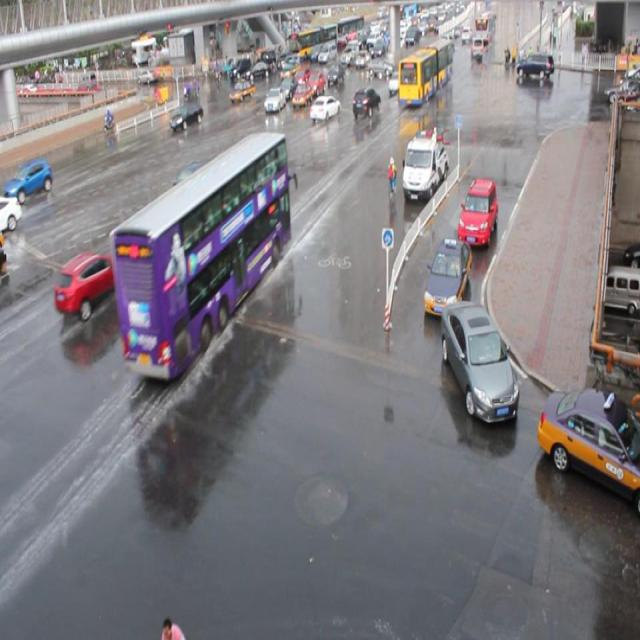bus: (401, 130, 448, 199)
car: (536, 386, 640, 511), (440, 299, 518, 422), (54, 251, 124, 318), (422, 235, 472, 317), (174, 159, 232, 218), (457, 176, 497, 246), (1, 156, 54, 204), (169, 100, 204, 130), (352, 86, 380, 118), (308, 95, 341, 122), (1, 193, 22, 234), (229, 77, 254, 104), (292, 81, 313, 107), (264, 86, 285, 112), (305, 70, 326, 95), (278, 75, 298, 99), (388, 70, 406, 91)
van: (108, 129, 292, 379), (398, 38, 452, 107)
